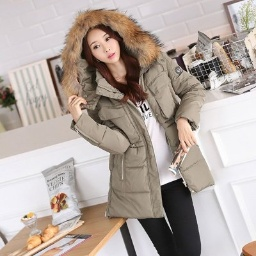face: (80, 23, 142, 78)
